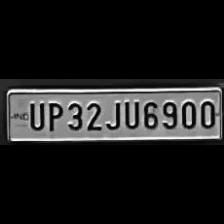0: (197, 97, 217, 128), (178, 99, 196, 129)
2: (83, 99, 103, 131)
3: (64, 99, 82, 130)
6: (140, 98, 158, 130)
9: (159, 98, 177, 130)
J: (103, 99, 121, 131)
P: (44, 100, 64, 132)
U: (24, 99, 43, 130), (122, 98, 140, 130)
